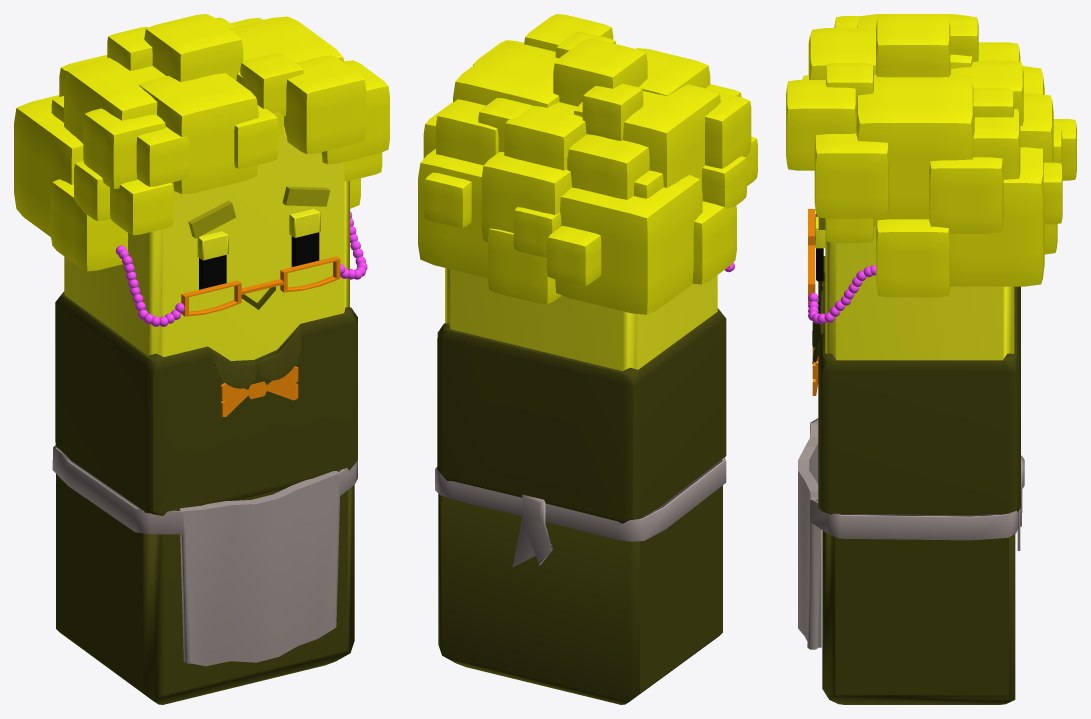
The model's file is PBR - Metallic Roughness.fbx.
3 renders of one model, left to right at view 1: azimuth 30°, elevation 25°; view 2: azimuth 150°, elevation 25°; view 3: azimuth 270°, elevation 25°, orthographic. The views are drawn at different scales.
Visible parts, largest first — view 1: Art_Teacher (×13); view 2: Art_Teacher (×5); view 3: Art_Teacher (×7).
Part boxes in pixels (bbox=[...]): Art_Teacher (×13): bbox=[14, 14, 389, 704]; Art_Teacher (×5): bbox=[418, 14, 757, 704]; Art_Teacher (×7): bbox=[786, 14, 1076, 704].
Bounding box in the file's own units: 112 × 245 × 103.
